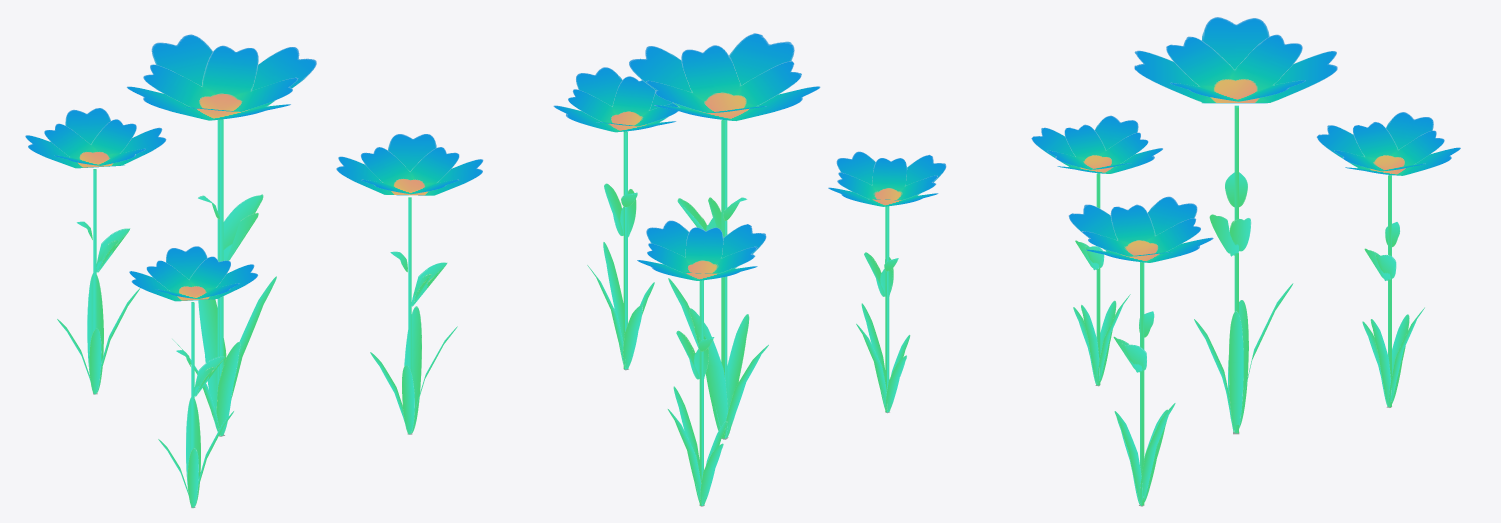
The model's file is Flower_n_09.fbx.
3 views of the same model, side by side, from view 1: azimuth 30°, elevation 25°; view 2: azimuth 150°, elevation 25°; view 3: azimuth 270°, elevation 25° (orthographic). The views are drawn at different scales.
Visible parts, largest first — view 1: polySurface431; view 2: polySurface431; view 3: polySurface431.
Part boxes in pixels (<box>): polySurface431: <box>25,34,483,508</box>; polySurface431: <box>553,33,946,506</box>; polySurface431: <box>1031,17,1460,506</box>.
Bounding box in the file's own units: 74.65 × 64.28 × 73.94.
Materials: 2 (1 with a texture image).
